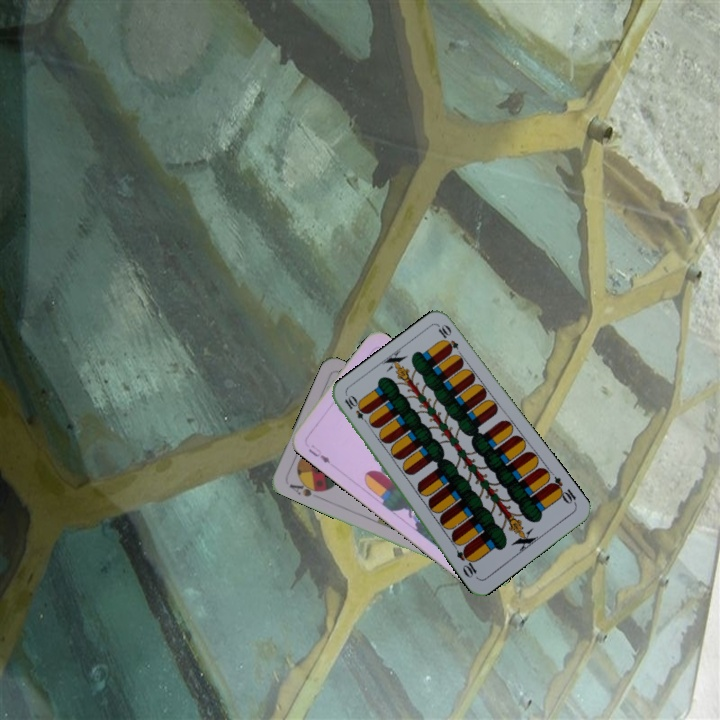E10: (545, 473, 579, 508), (340, 392, 372, 428)
EU: (304, 440, 333, 466)
SA: (285, 477, 325, 499)
